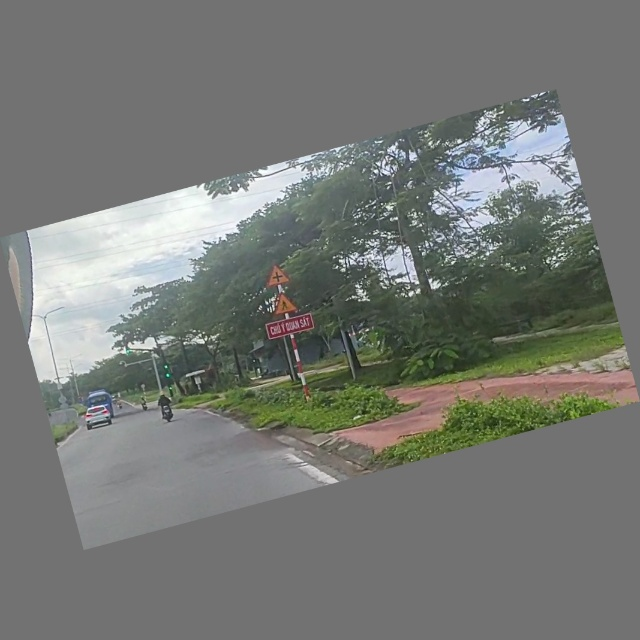W.205a: (260, 262, 291, 290)
W.224: (266, 289, 301, 319)
